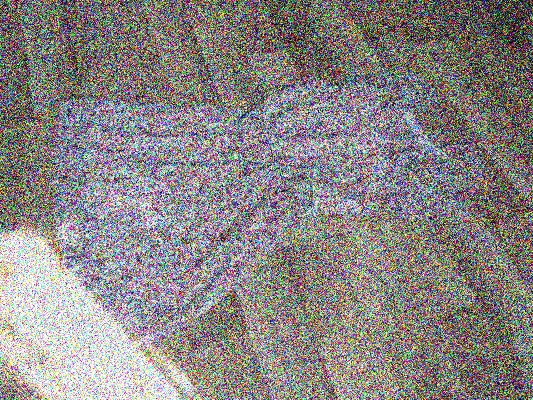Dress: (50, 60, 483, 378)
